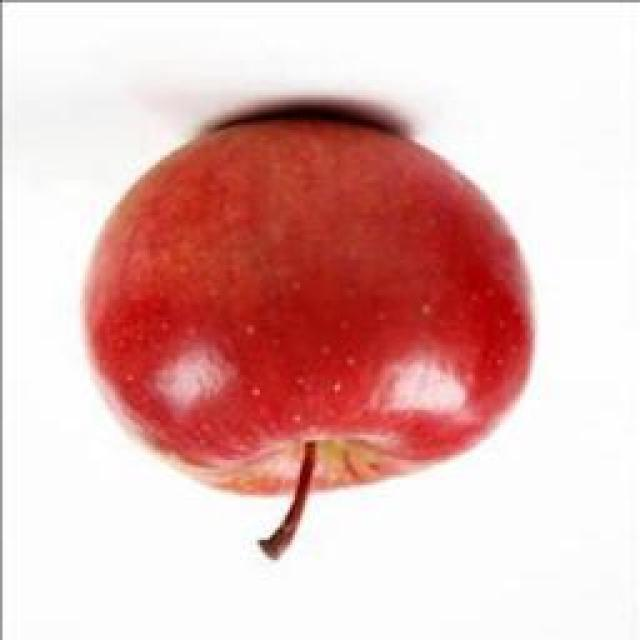Apple: (86, 102, 532, 553)
